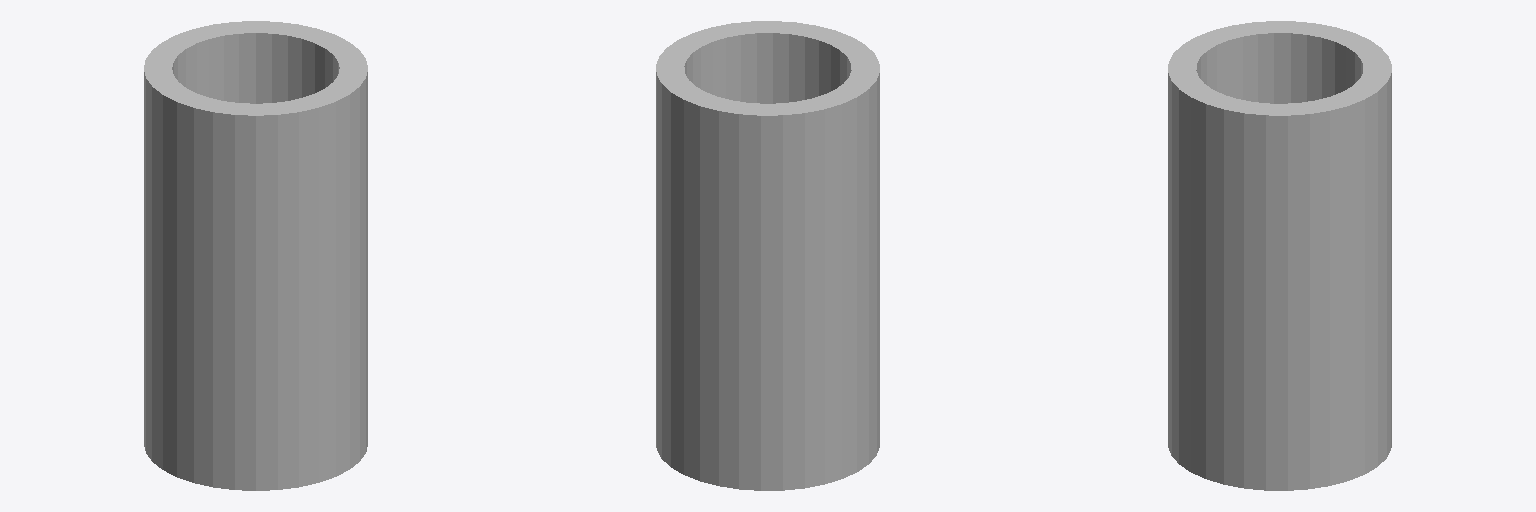
File: collisionSilindir.obj
3 views of the same model, side by side, from view 1: azimuth 30°, elevation 25°; view 2: azimuth 150°, elevation 25°; view 3: azimuth 270°, elevation 25° (orthographic).
Size of the model in its own units: 14.69 by 27.14 by 14.69.